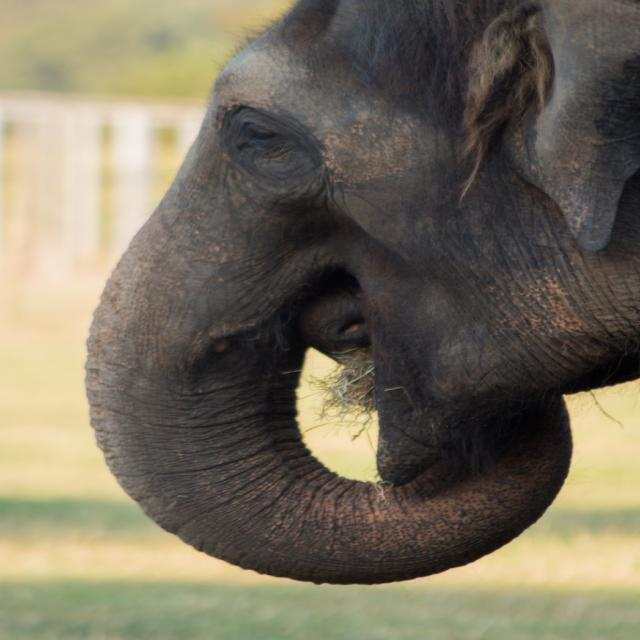Elephant: (79, 0, 639, 582)
